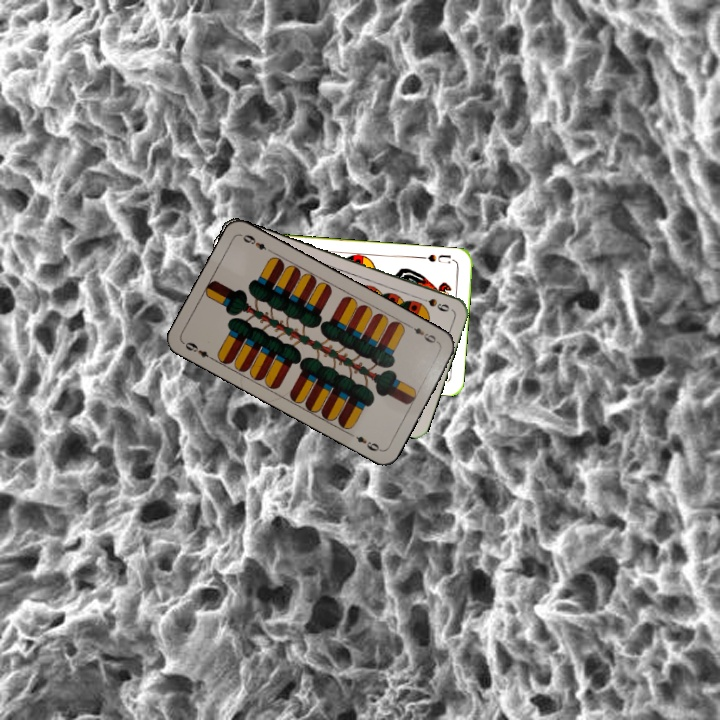E9: (404, 321, 442, 346), (180, 338, 217, 363)
S9: (414, 293, 452, 314)
SU: (416, 250, 457, 266)
